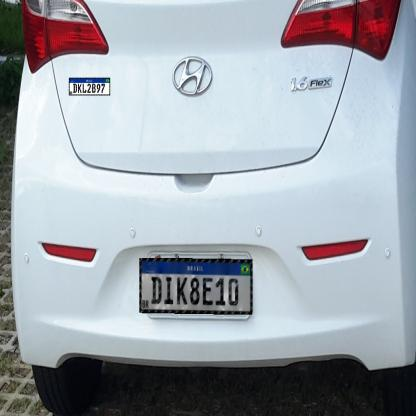PlacaM: (140, 258, 252, 315), (69, 78, 110, 96)
